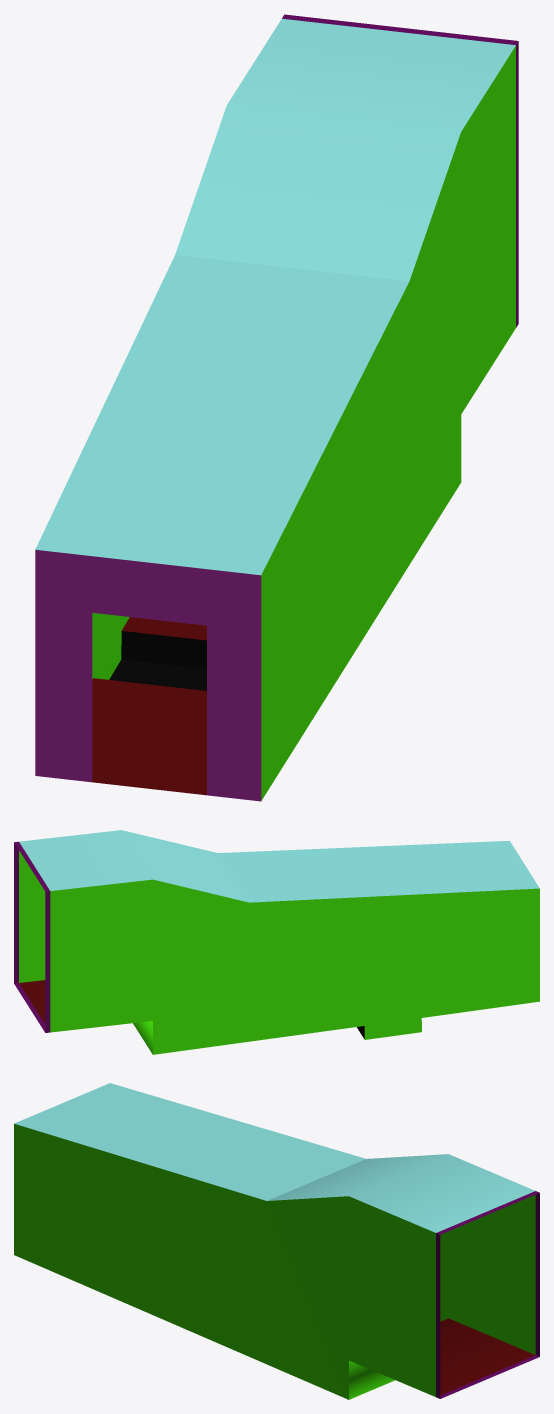
The model's file is Corridor_R_v1.0.fbx.
3 renders of one model, top to bottom at view 1: azimuth 30°, elevation 25°; view 2: azimuth 150°, elevation 25°; view 3: azimuth 270°, elevation 25°, orthographic. The views are drawn at different scales.
Parts seen in each view (by area): view 1: Corridor_R9; view 2: Corridor_R9; view 3: Corridor_R9.
Part boxes in pixels (x1=…): Corridor_R9: x1=35, y1=14, x2=518, y2=801; Corridor_R9: x1=14, y1=830, x2=539, y2=1054; Corridor_R9: x1=14, y1=1083, x2=539, y2=1399.
Size of the model in its own units: 1421 by 659 by 1451.
